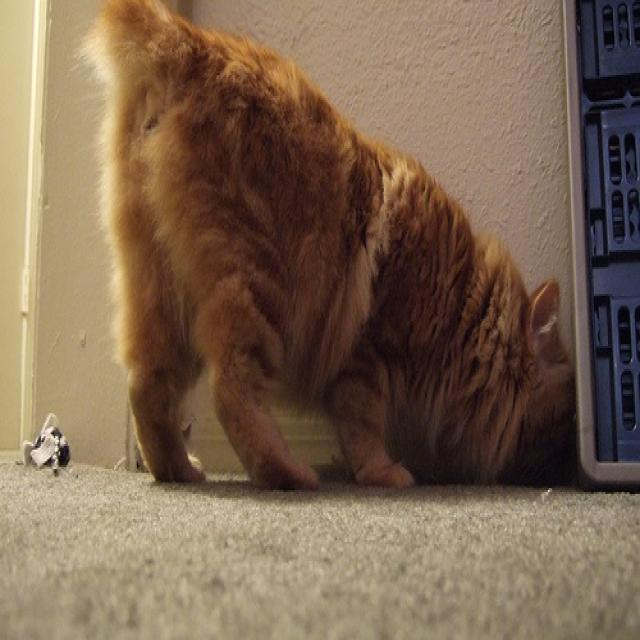cat: (93, 0, 576, 492)
